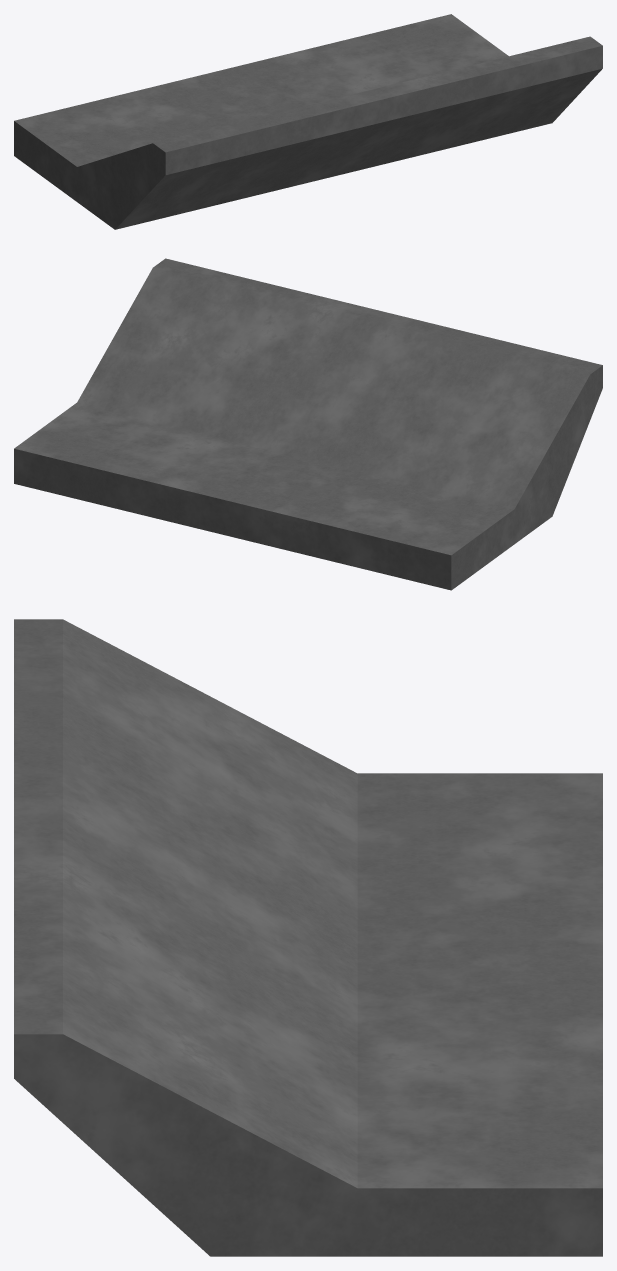
File: ConsoleModuleDeskTypeB.fbx
3 renders of one model, top to bottom at view 1: azimuth 30°, elevation 25°; view 2: azimuth 150°, elevation 25°; view 3: azimuth 270°, elevation 25°, orthographic. The views are drawn at different scales.
Visible parts, largest first — view 1: ConsoleDesk2; view 2: ConsoleDesk2; view 3: ConsoleDesk2.
Part boxes in pixels (x1=…): ConsoleDesk2: x1=14, y1=14, x2=602, y2=229; ConsoleDesk2: x1=14, y1=258, x2=602, y2=590; ConsoleDesk2: x1=14, y1=619, x2=602, y2=1256.
Size of the model in its own units: 2.4 by 1.44 by 0.6.
1 material, 1 textured.
